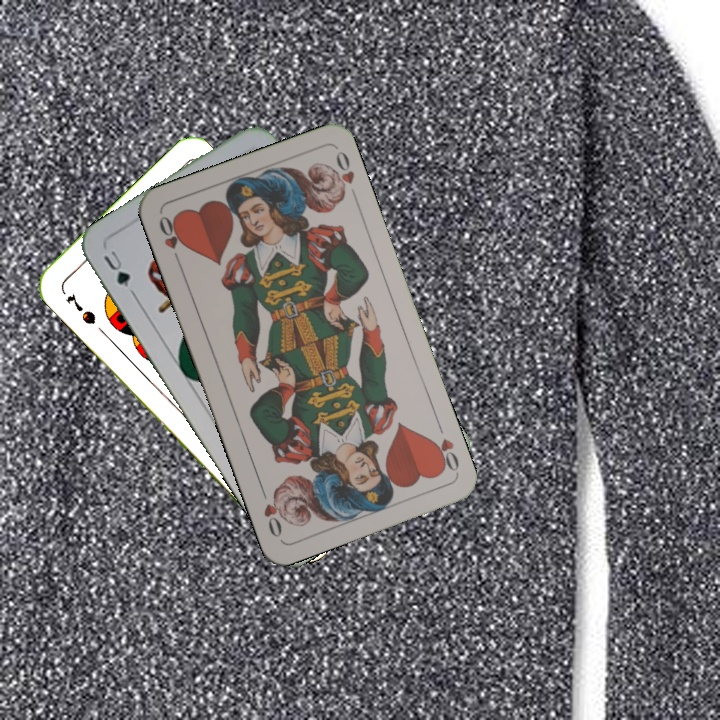GU: (99, 246, 133, 290)
HO: (427, 418, 462, 475), (154, 211, 186, 268)
S7: (62, 289, 99, 328)
